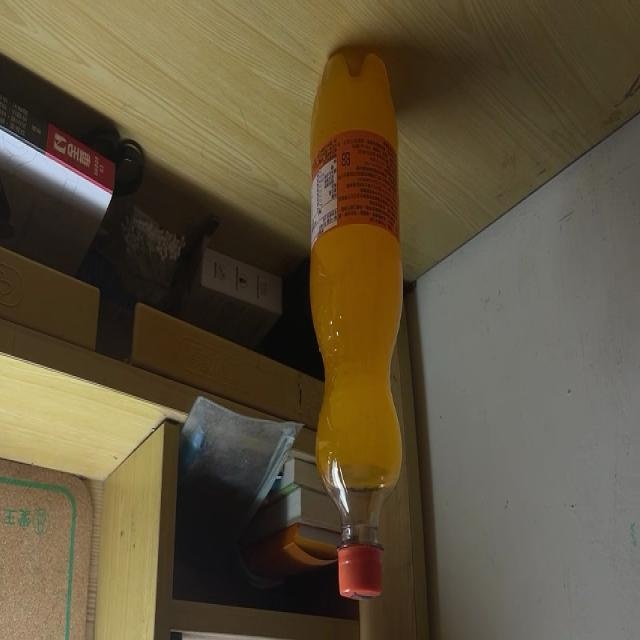Fanta: (309, 48, 405, 603)
